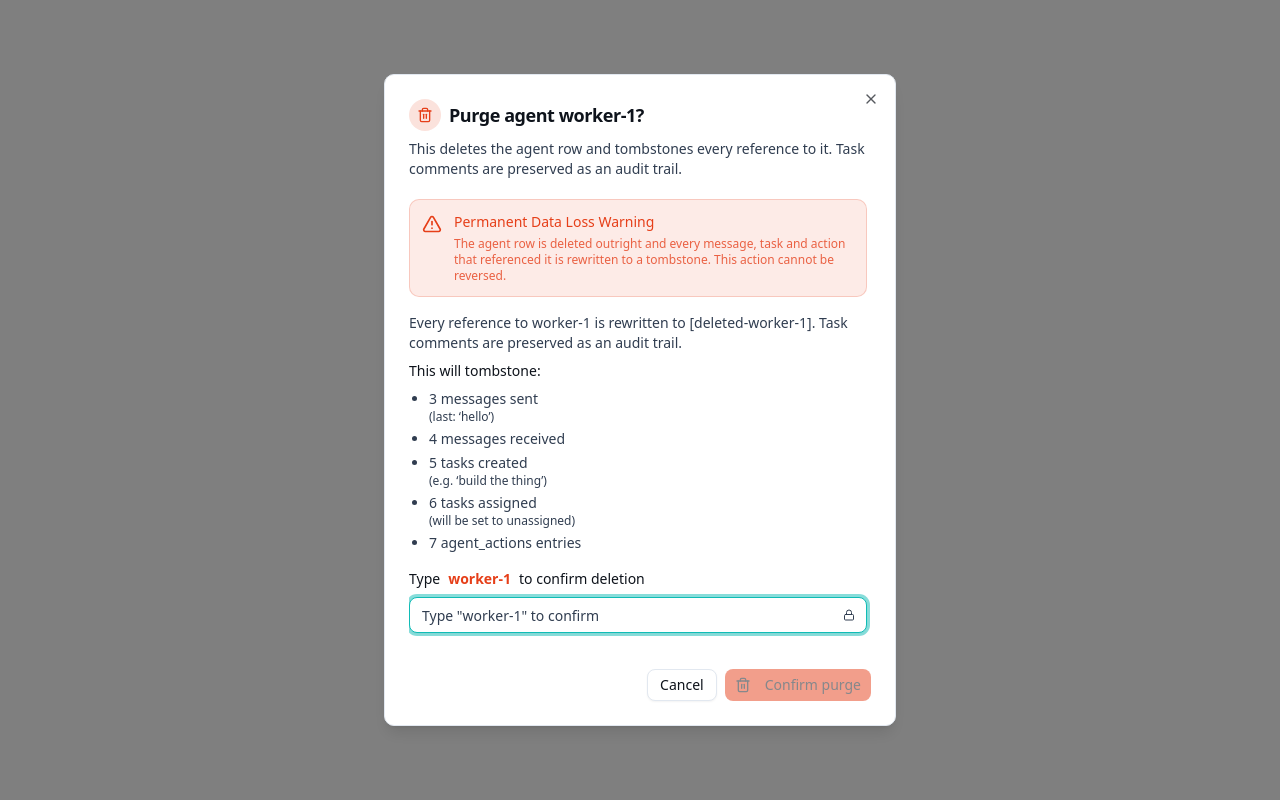
<PurgeAgentDialog> › surfaces a failed purge inline and keeps the dialog open
In the field labelled "Type worker-1 to confirm deletion": [638, 615] box [409,597,867,633], type "worker-1"
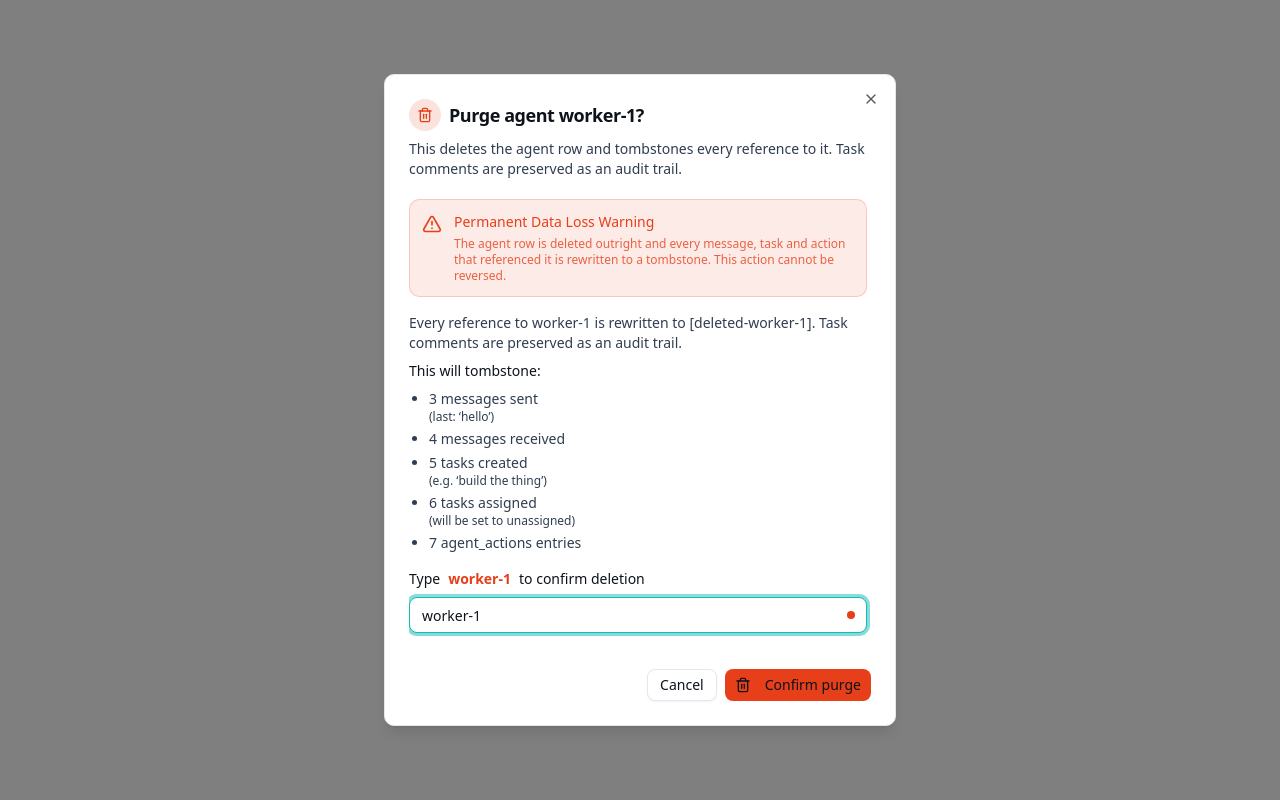
Click the button "Confirm purge": [798, 685] box [725,669,871,701]
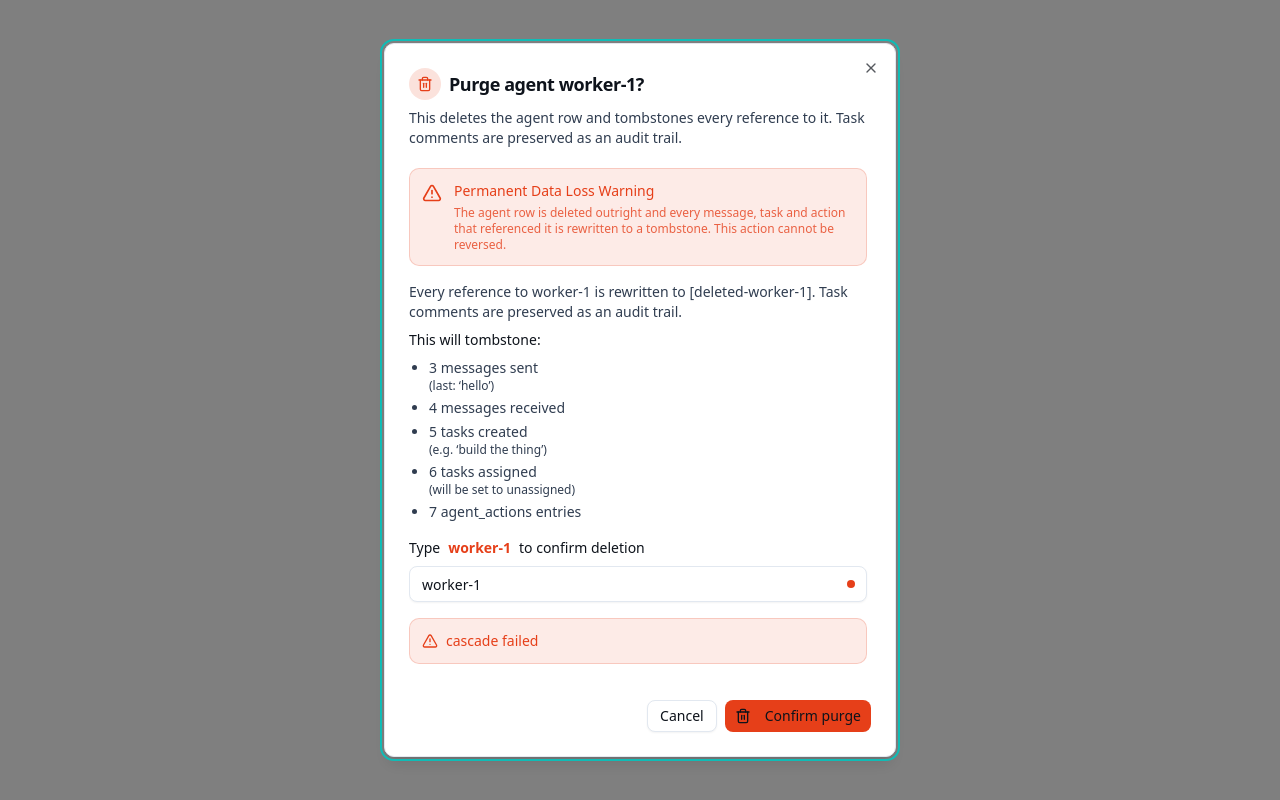
Check: the text "cascade failed" is shown, box [446,631,538,651]
